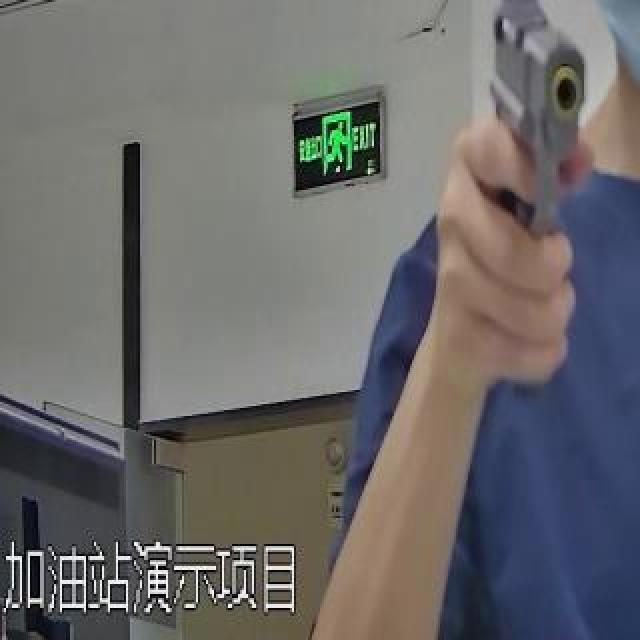Guns: (456, 0, 602, 270)
